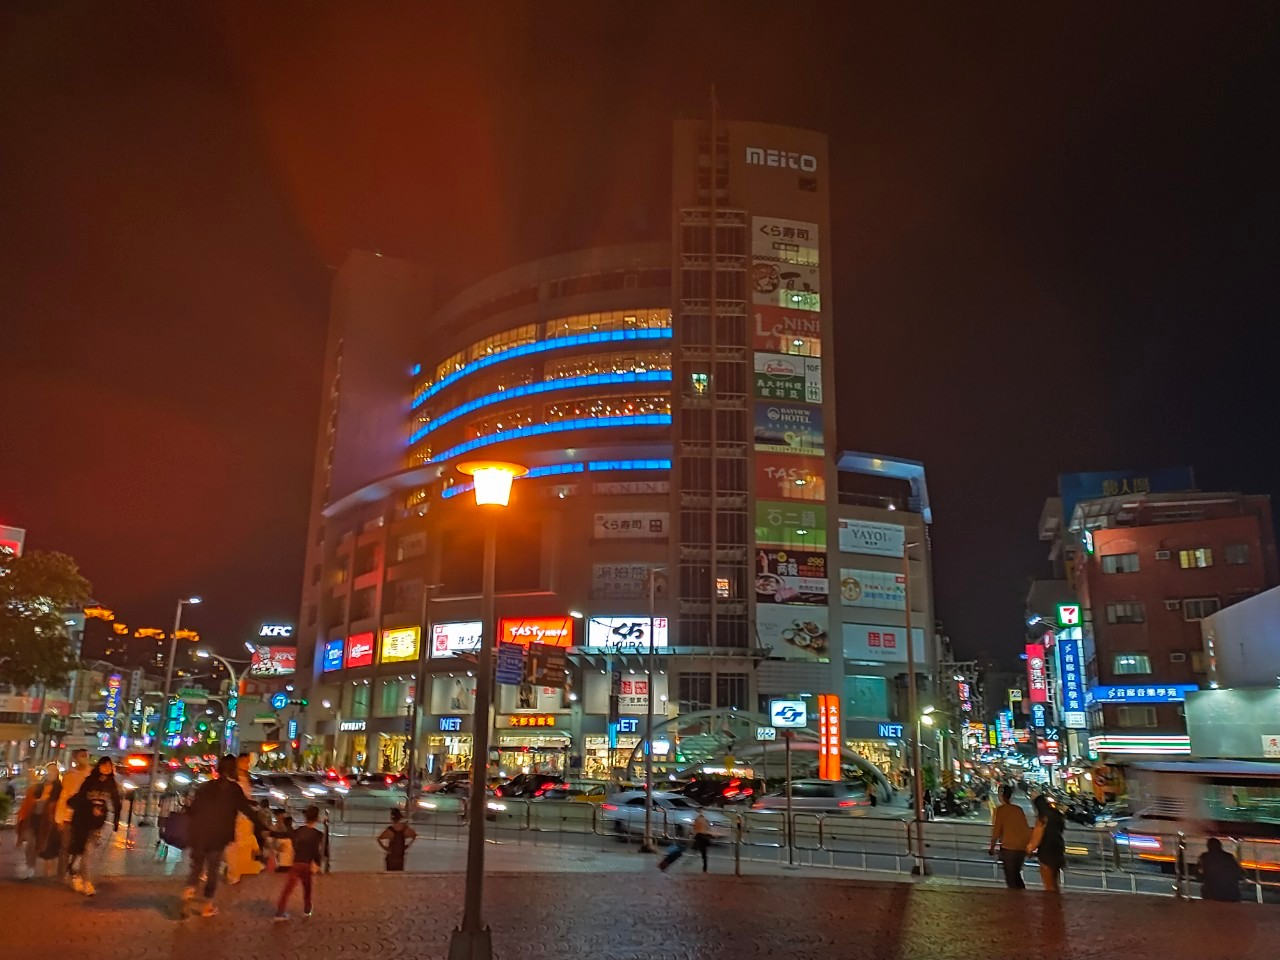people: (175, 746, 237, 924), (68, 751, 118, 906), (1028, 780, 1071, 897), (284, 778, 320, 917), (986, 784, 1028, 895), (24, 775, 68, 875), (229, 731, 266, 847), (53, 742, 89, 862), (1202, 829, 1248, 917), (382, 807, 417, 873), (691, 807, 718, 884)
